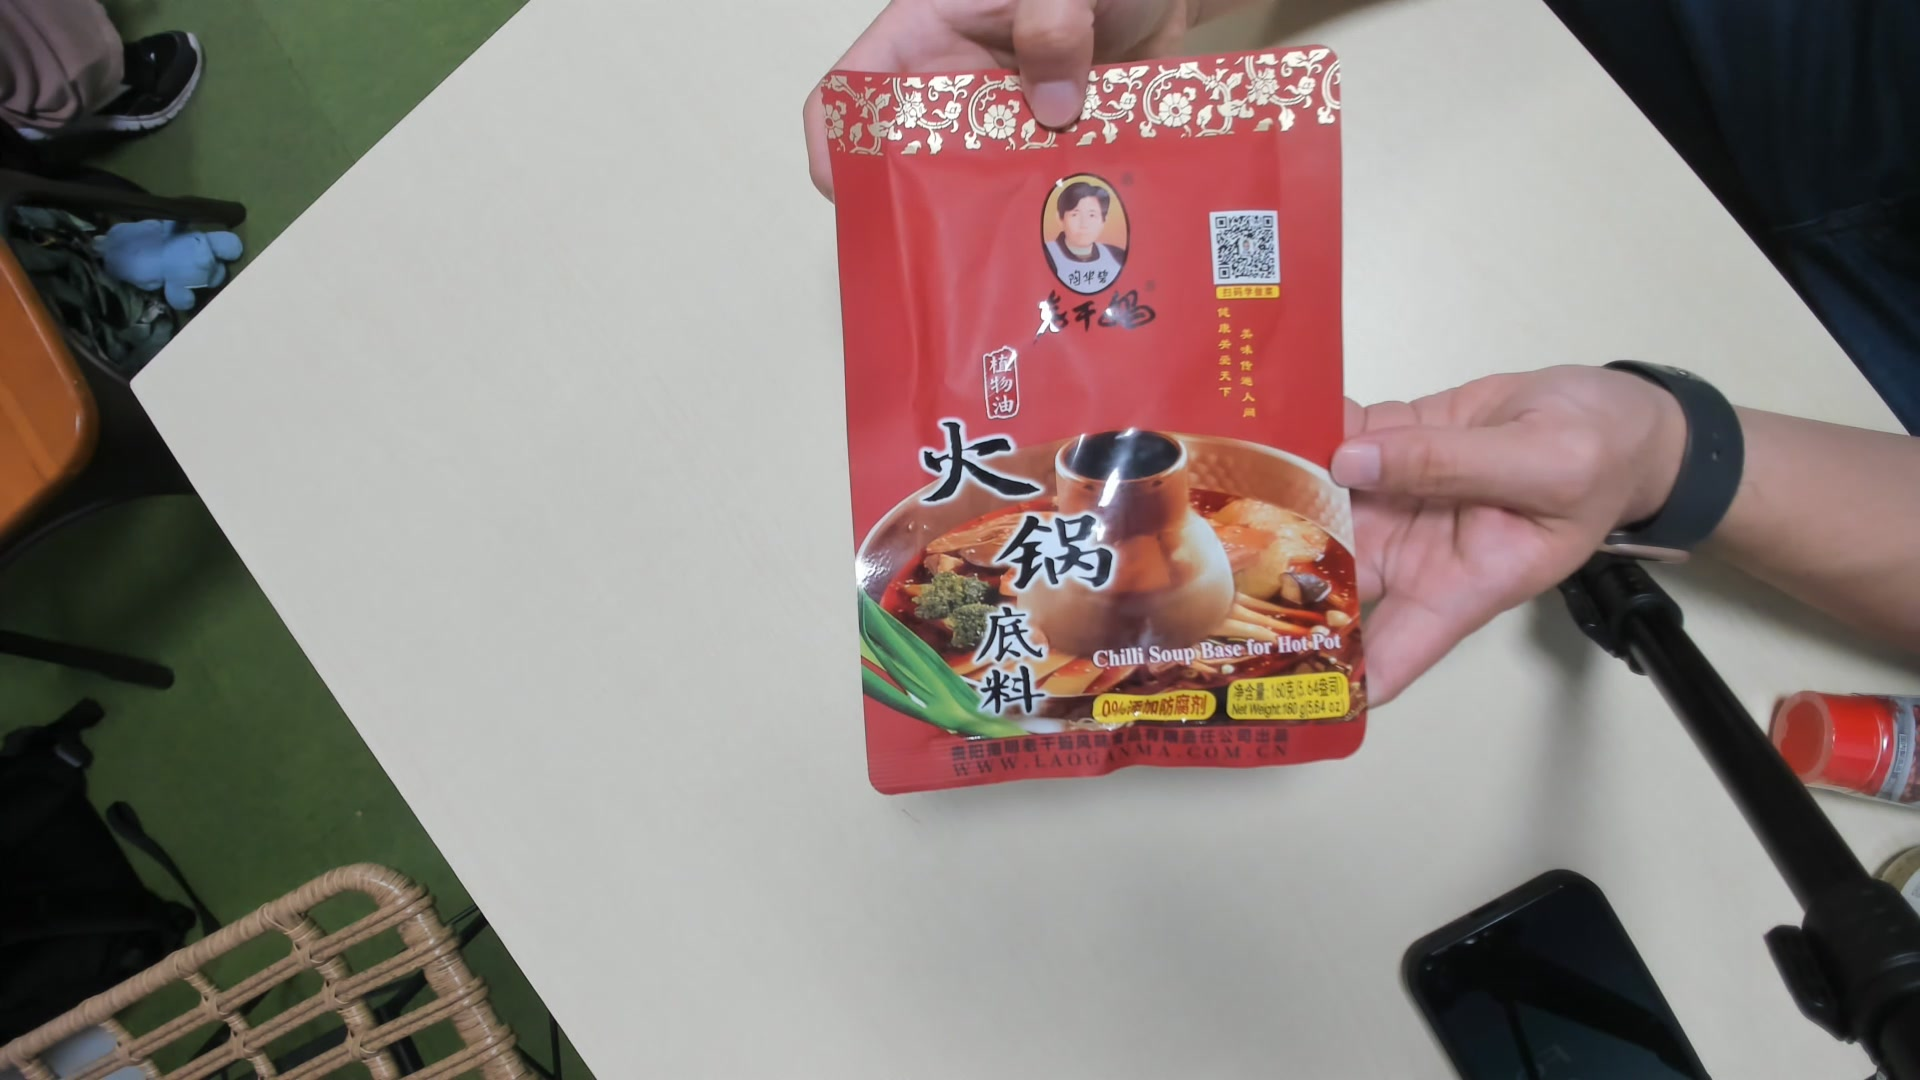OtherSauceDressing_100-199g_NonHalal_NonHealthy: (828, 49, 1367, 794)
